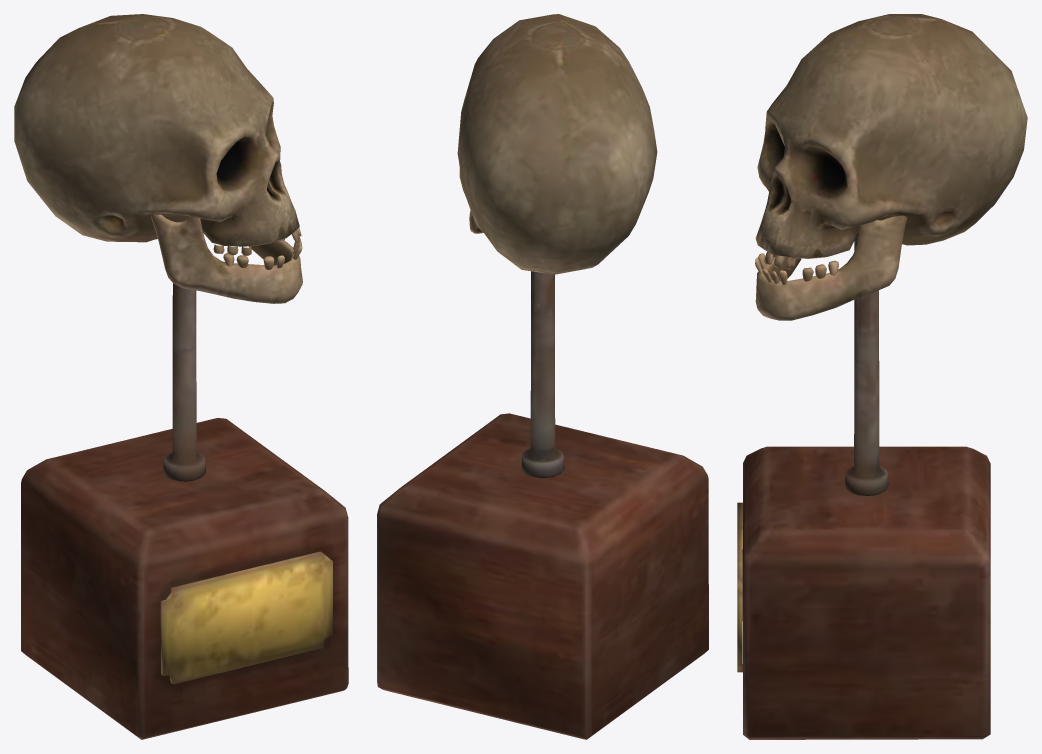
File: skulltrophy_2.glb
The picture shows the model from 3 angles, left to right: view 1: azimuth 30°, elevation 25°; view 2: azimuth 150°, elevation 25°; view 3: azimuth 270°, elevation 25°; orthographic projection.
Visible parts, largest first — view 1: SkullTrophy2_LOD0; view 2: SkullTrophy2_LOD0; view 3: SkullTrophy2_LOD0.
Part boxes in pixels (x1,y1,x2,y2): SkullTrophy2_LOD0: (14, 14, 348, 739); SkullTrophy2_LOD0: (377, 14, 708, 739); SkullTrophy2_LOD0: (737, 14, 1027, 739).
Size of the model in its own units: 0.2081 by 0.5433 by 0.2183.
Materials: 2 (2 with a texture image).
